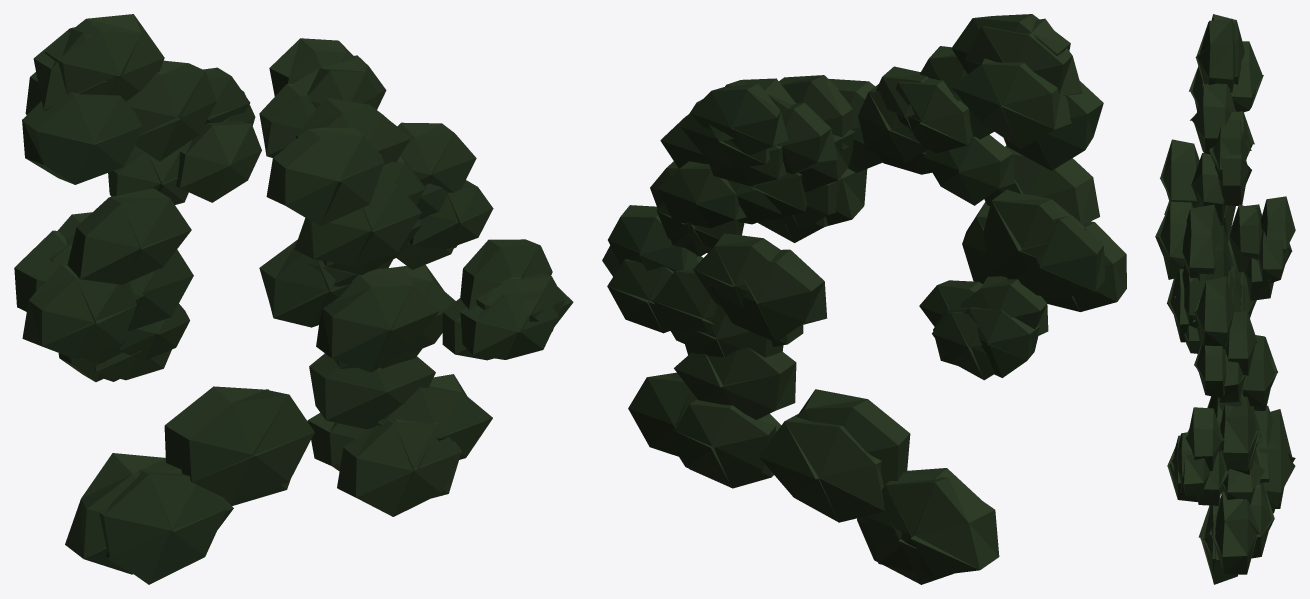
File: tree_m6_far.obj
The picture shows the model from 3 angles, left to right: view 1: azimuth 30°, elevation 25°; view 2: azimuth 150°, elevation 25°; view 3: azimuth 270°, elevation 25°; orthographic projection. The views are drawn at different scales.
Size of the model in its own units: 1.65 by 1.72 by 0.4764.
Materials: 1 (1 with a texture image).
